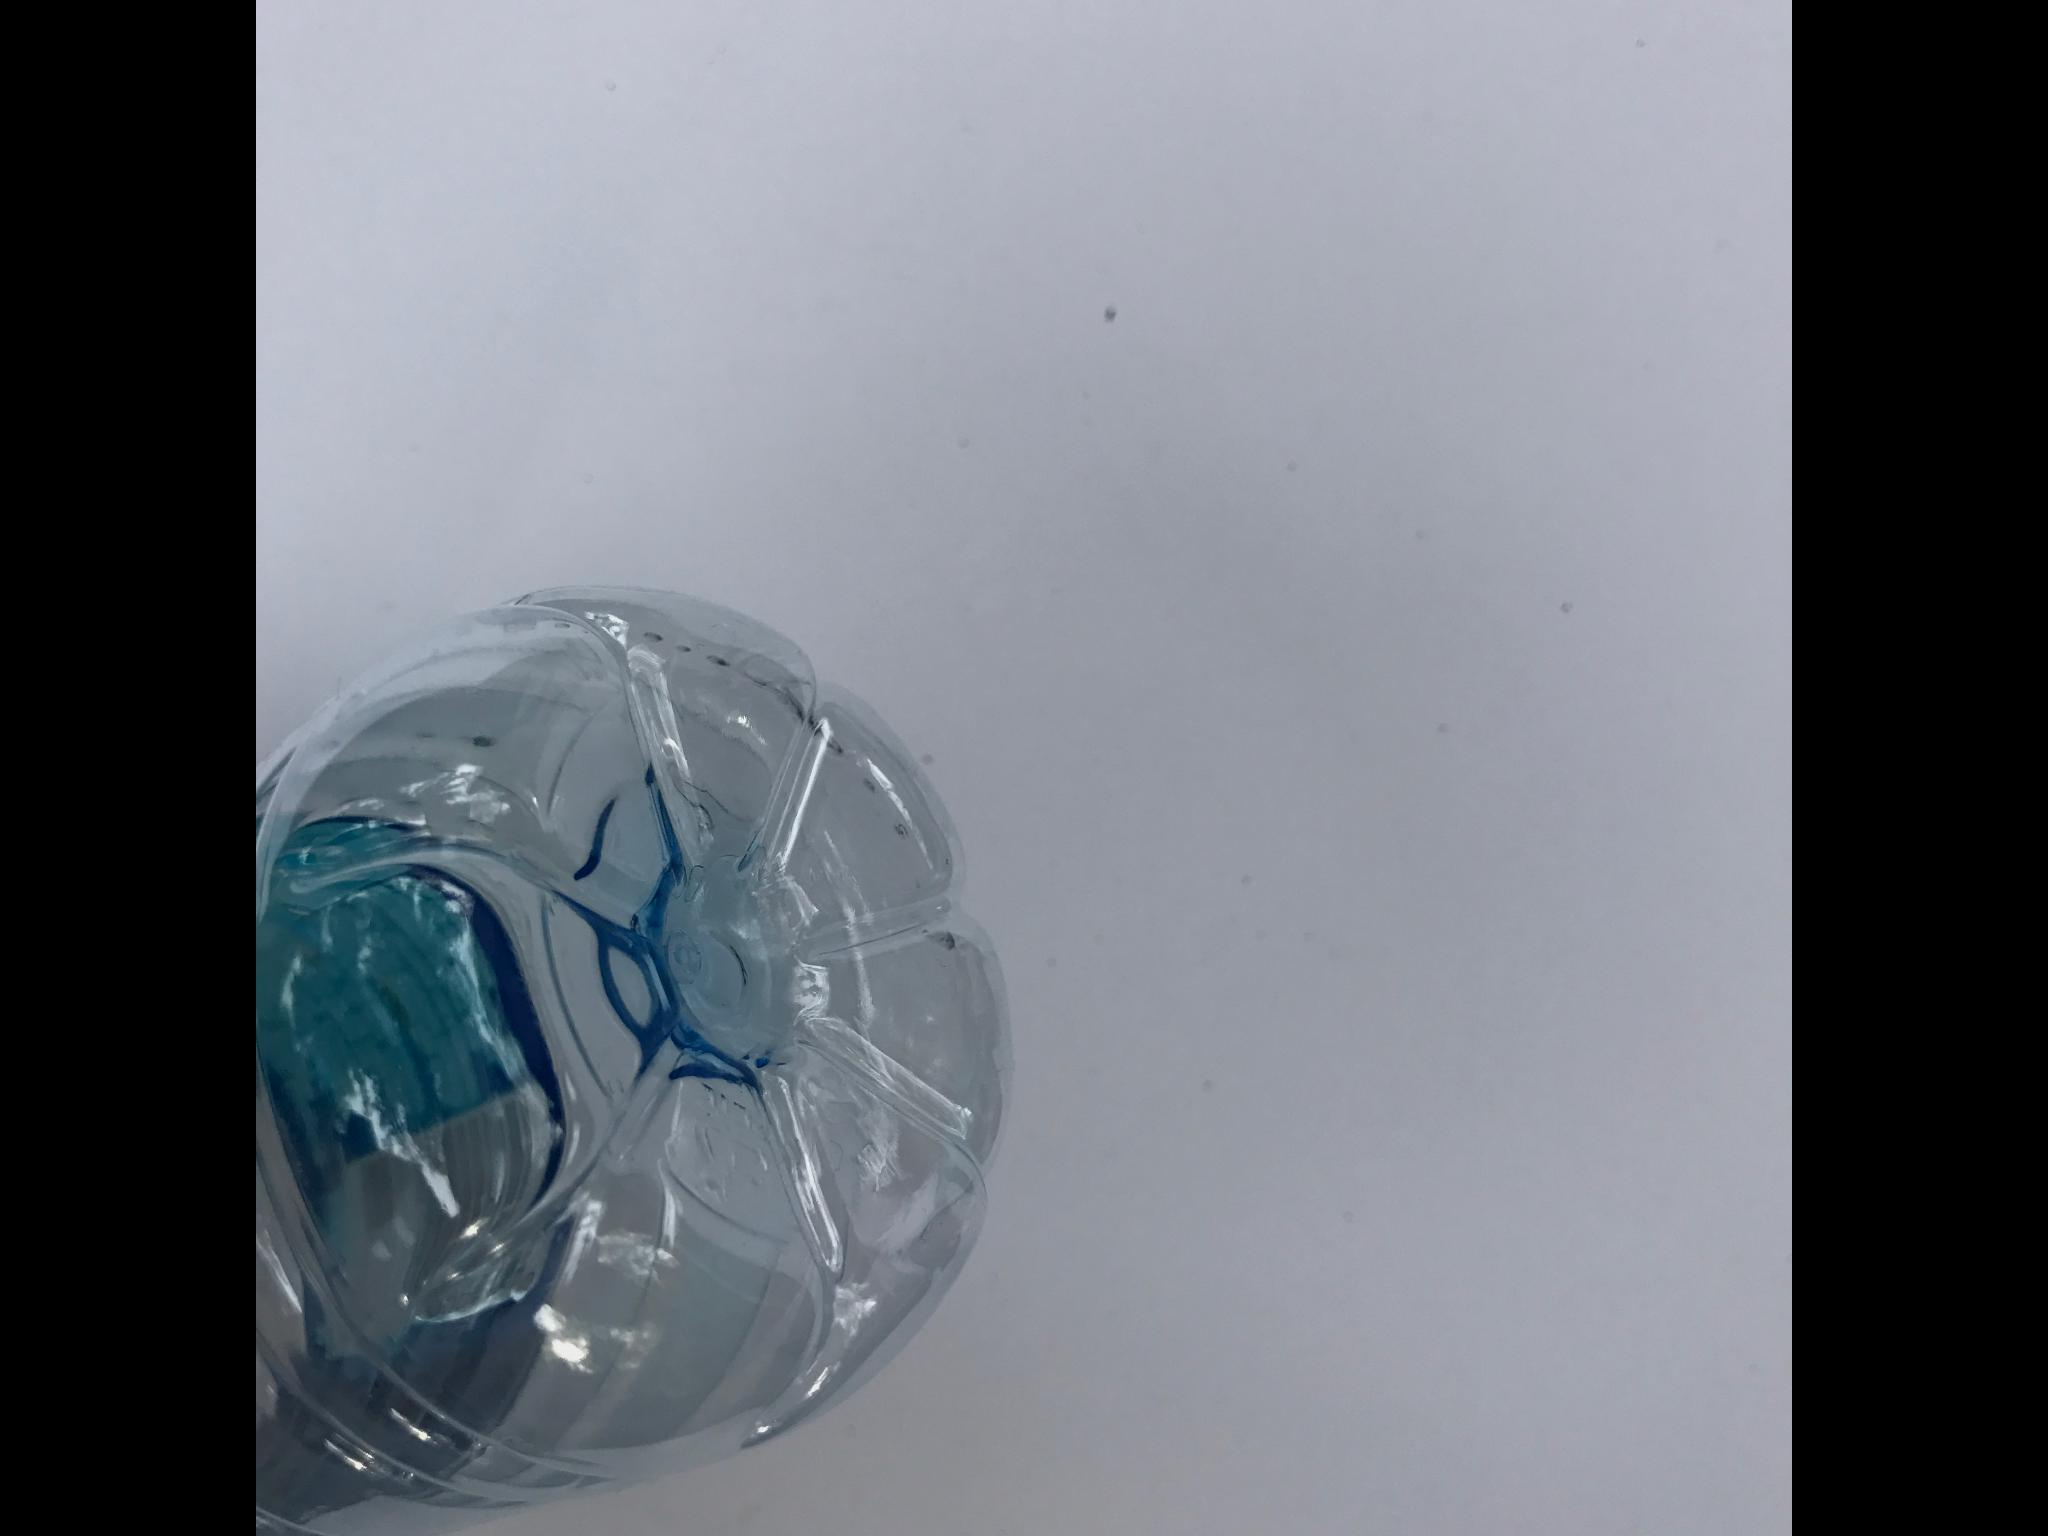Plastic: (256, 566, 1032, 1534)
